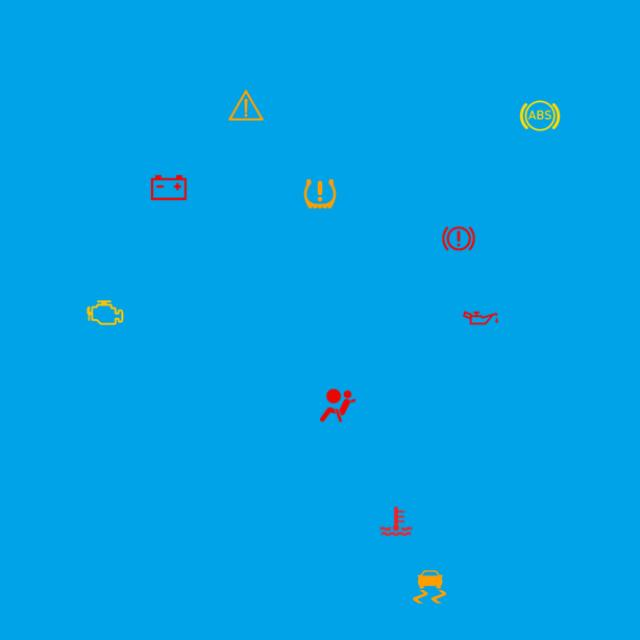Anti Lock Braking System: (518, 94, 562, 138)
Braking System Issue: (436, 217, 481, 260)
Charging System Issue: (147, 166, 191, 210)
Check Engine: (84, 290, 128, 334)
Electronic Stability Problem -ESP-: (408, 565, 452, 609)
Engine Overheating Warning Light: (374, 499, 418, 543)
Low Engine Oil Warning Light: (458, 296, 502, 340)
Low Tire Pressure Warning Light: (298, 172, 342, 216)
Master warning light: (224, 84, 268, 128)
SRS-Airbag: (316, 383, 360, 428)
